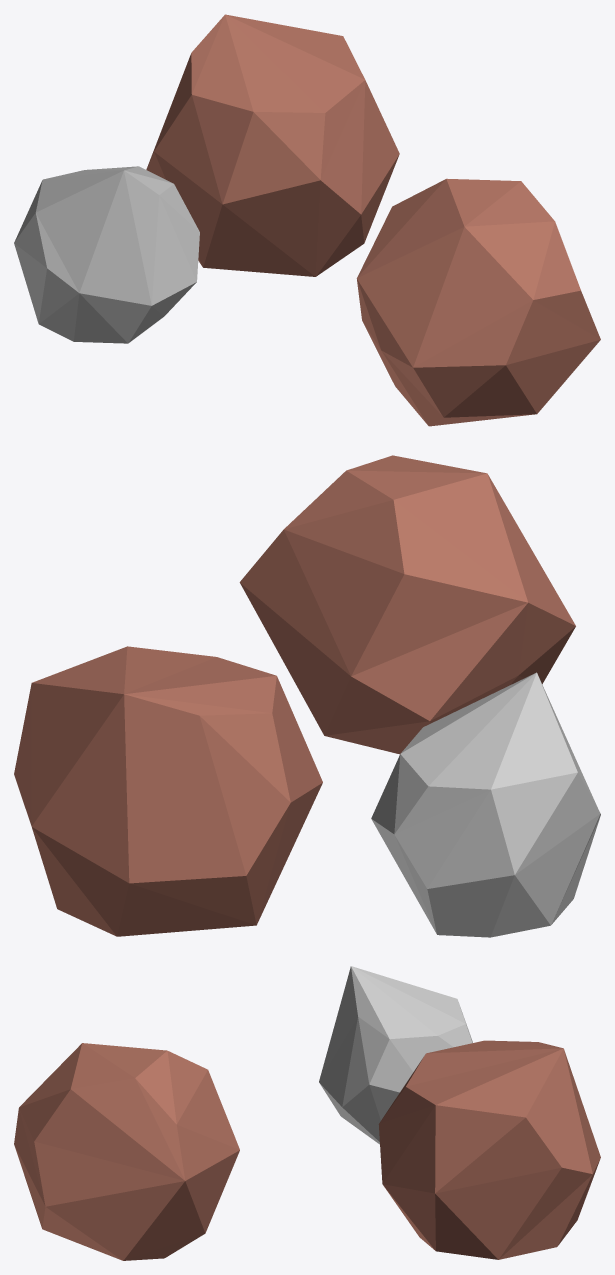
The model's file is Rock.gltf.
3 renders of one model, top to bottom at view 1: azimuth 30°, elevation 25°; view 2: azimuth 150°, elevation 25°; view 3: azimuth 270°, elevation 25°, orthographic. The views are drawn at different scales.
Parts seen in each view (by area): view 1: node-0; view 2: node-0; view 3: node-0.
Boxes of the visible parts, x1,y1,x2,y2 form: node-0: (14,14,600,426); node-0: (14,455,600,937); node-0: (14,966,600,1260).
Bounding box in the file's own units: 541 × 280 × 765.
